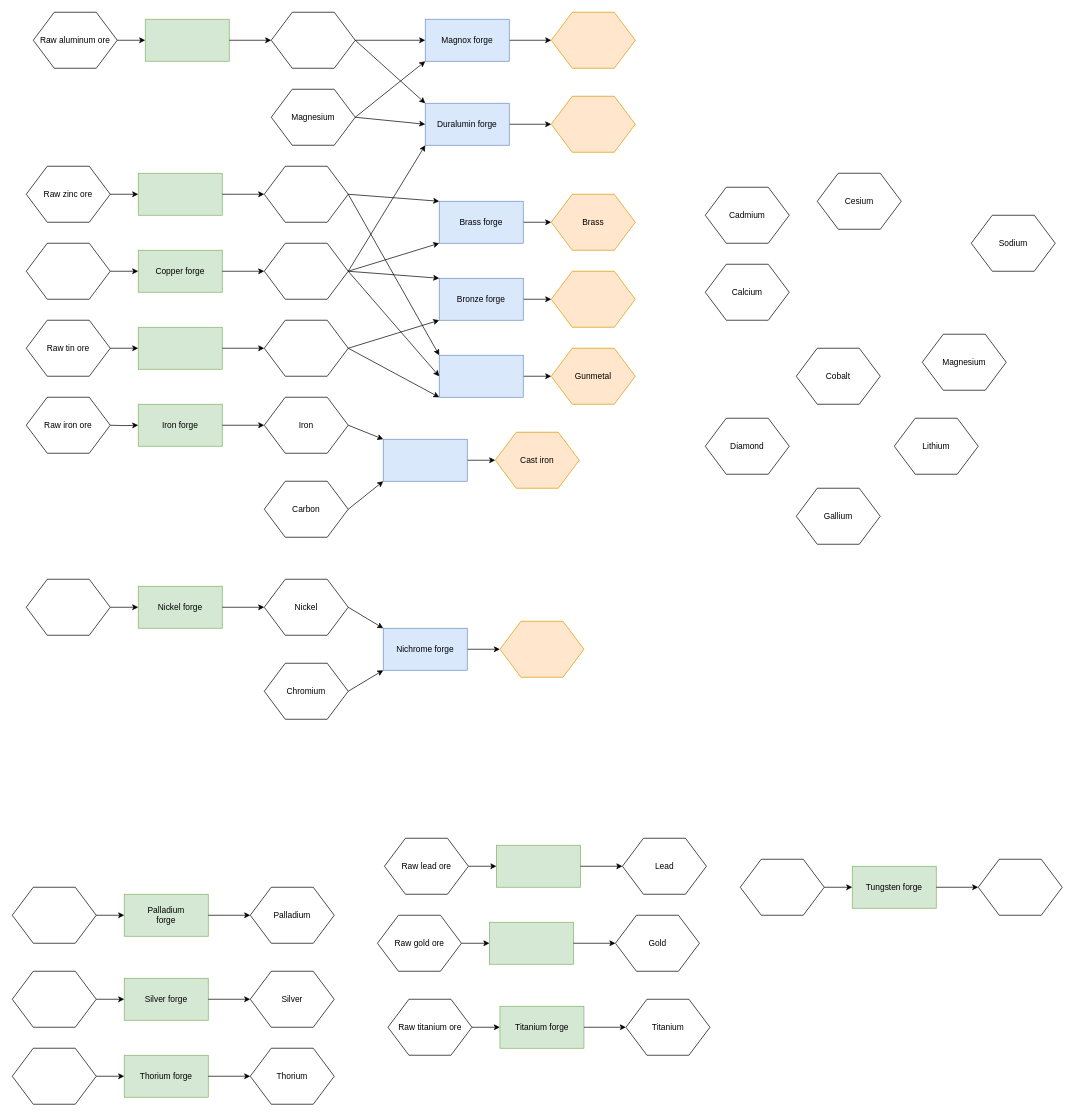
Some shapes in this 1075 by 1117 pixel diagram are drawn without their labels. Each missing label, with the box of its shape:
Aluminum: (271, 12, 355, 68)
Aluminum forge: (145, 19, 229, 61)
Bronze: (551, 271, 635, 327)
Cast iron forge: (383, 439, 467, 481)
Copper: (264, 243, 348, 299)
Duralumin: (551, 96, 635, 152)
Gold forge: (489, 922, 573, 964)
Gunmetal forge: (439, 355, 523, 397)
Lead forge: (496, 845, 580, 887)
Magnox: (551, 12, 635, 68)
Nichrome: (499, 621, 584, 677)
Raw copper ore: (26, 243, 110, 299)
Raw nickel ore: (26, 579, 110, 635)
Raw palladium ore: (12, 887, 96, 943)
Raw silver ore: (12, 971, 96, 1027)
Raw thorium ore: (12, 1048, 96, 1104)
Raw tungsten ore: (740, 859, 824, 915)
Tin: (264, 320, 348, 376)
Tin forge: (138, 327, 222, 369)
Tungsten: (978, 859, 1062, 915)
Zinc: (264, 166, 348, 222)
Zinc forge: (138, 173, 222, 215)
